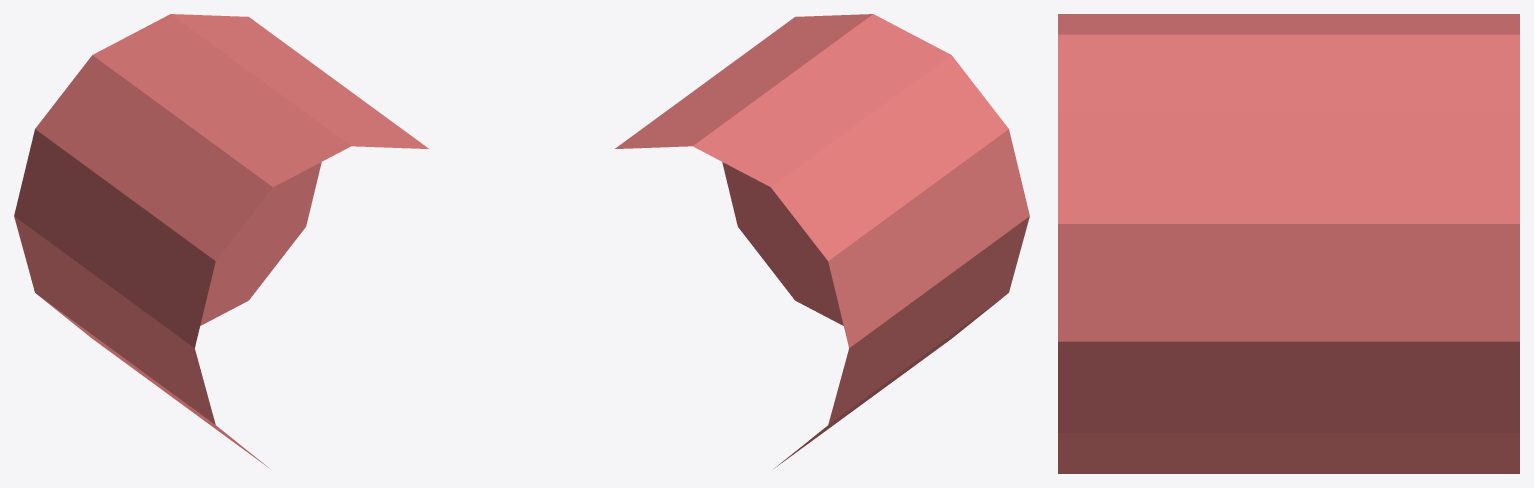
The model's file is can.glb.
3 views of the same model, side by side, from view 1: azimuth 30°, elevation 25°; view 2: azimuth 150°, elevation 25°; view 3: azimuth 270°, elevation 25° (orthographic). The views are drawn at different scales.
Bounding box in the file's own units: 0.08 × 0.08 × 0.08.
